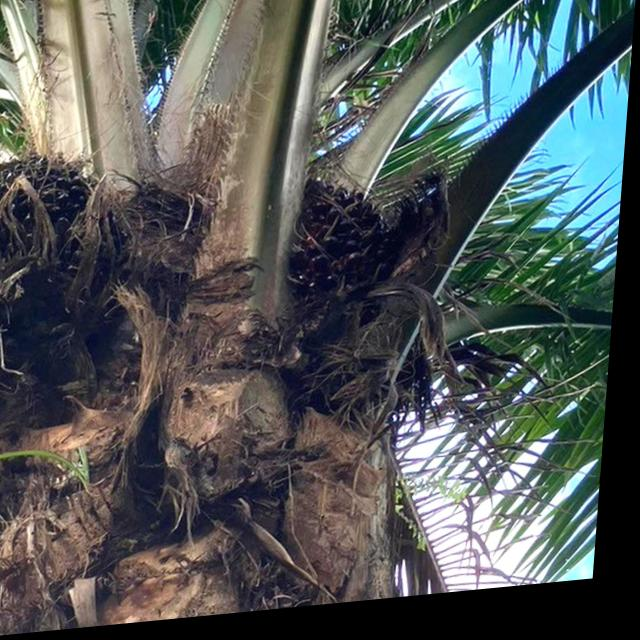ripe: (270, 162, 408, 325)
